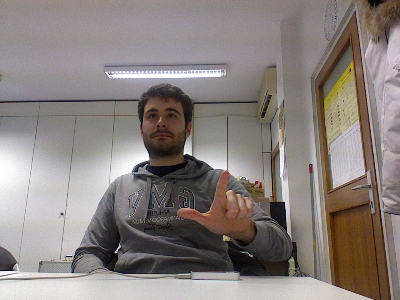枪: (175, 169, 254, 235)
